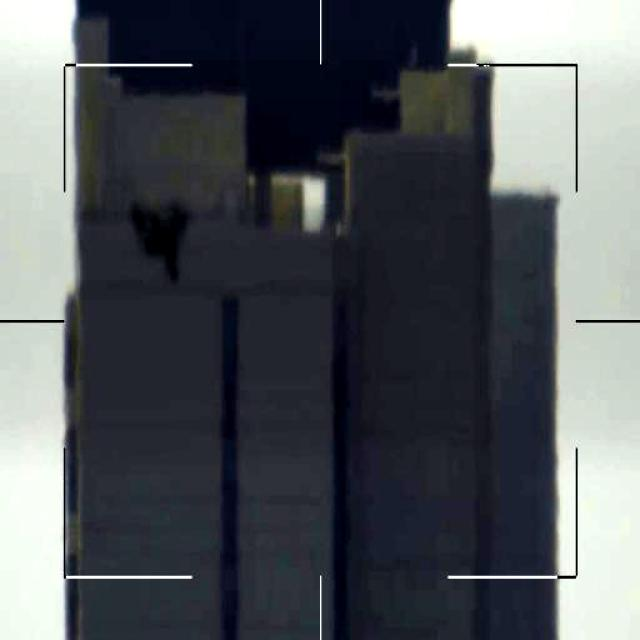bird: (130, 194, 191, 280)
